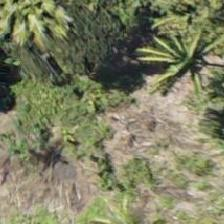coconut_tree: (137, 18, 223, 108), (10, 0, 100, 63)
